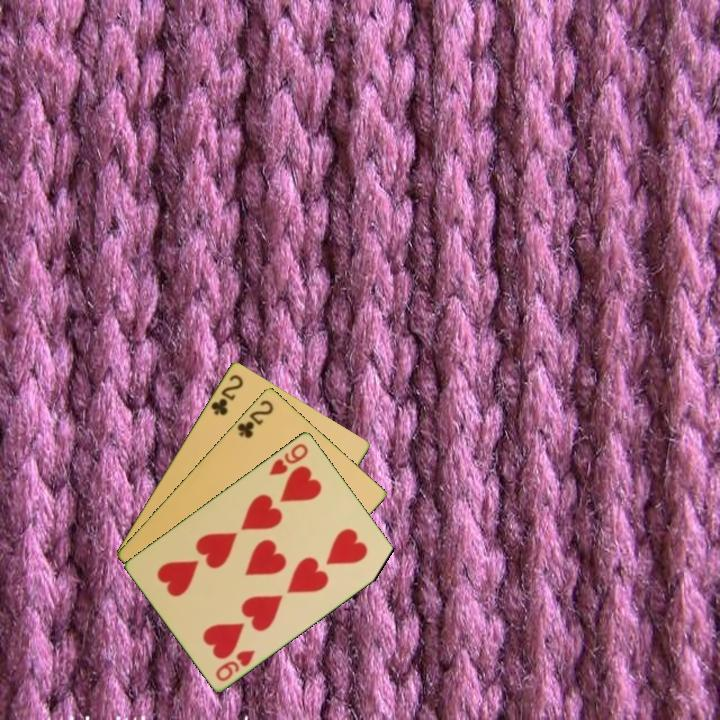2c: (233, 396, 276, 441), (207, 371, 246, 418)
9h: (266, 439, 311, 478), (212, 646, 258, 684)
